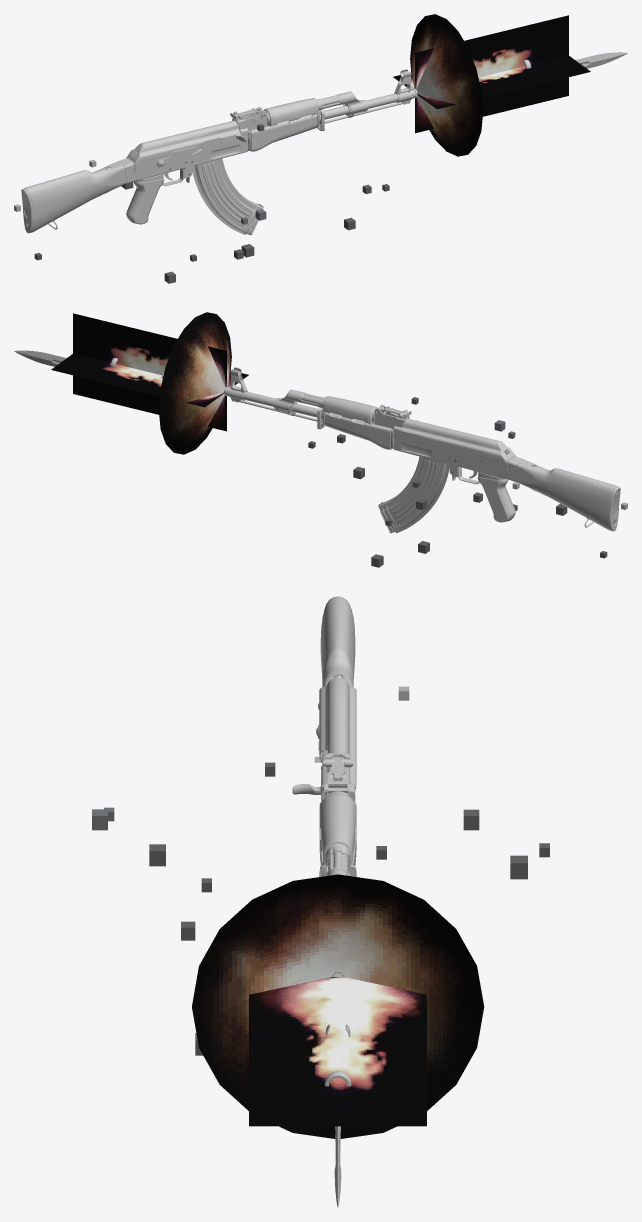
3 renders of one model, top to bottom at view 1: azimuth 30°, elevation 25°; view 2: azimuth 150°, elevation 25°; view 3: azimuth 270°, elevation 25°, orthographic. The views are drawn at different scales.
Visible parts, largest first — view 1: fire_muzzle, buttstock, magazine, receiver, receiver_cover, lower_handguard, pistol_grip, upper_handguard, barrel, custom_bayonet, bolt_carrier, gas_port (+4 smaller); view 2: fire_muzzle, buttstock, magazine, receiver, receiver_cover, lower_handguard, pistol_grip, upper_handguard, barrel, custom_bayonet, rear_sight_base, gas_port (+3 smaller); view 3: fire_muzzle, receiver_cover, buttstock, upper_handguard, gas_piston_tube.
Boxes of the visible parts, x1,y1,x2,y2 form: fire_muzzle: (393,14,590,156); buttstock: (24,161,126,232); magazine: (192,158,262,234); receiver: (126,128,248,186); receiver_cover: (127,120,238,164); lower_handguard: (248,114,317,151); pistol_grip: (126,178,164,224); upper_handguard: (268,98,317,125); barrel: (248,93,398,139); custom_bayonet: (478,52,627,80); bolt_carrier: (204,126,246,145); gas_port: (339,91,368,117); fire_muzzle: (51,312,248,454); buttstock: (515,459,617,530); magazine: (379,456,449,532); receiver: (393,426,515,484); receiver_cover: (401,418,514,462); lower_handguard: (324,412,393,449); pistol_grip: (477,476,515,522); upper_handguard: (324,396,373,423); barrel: (243,391,393,437); custom_bayonet: (14,350,163,378); rear_sight_base: (374,405,409,429); gas_port: (273,389,302,415); fire_muzzle: (192,874,484,1138); receiver_cover: (319,678,356,789); buttstock: (320,597,355,687); upper_handguard: (320,794,355,862); gas_piston_tube: (320,791,355,875).
Bounding box in the file's own units: 136 × 41.34 × 43.88.
